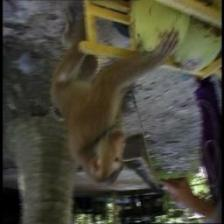monkey: (77, 127, 134, 186)
